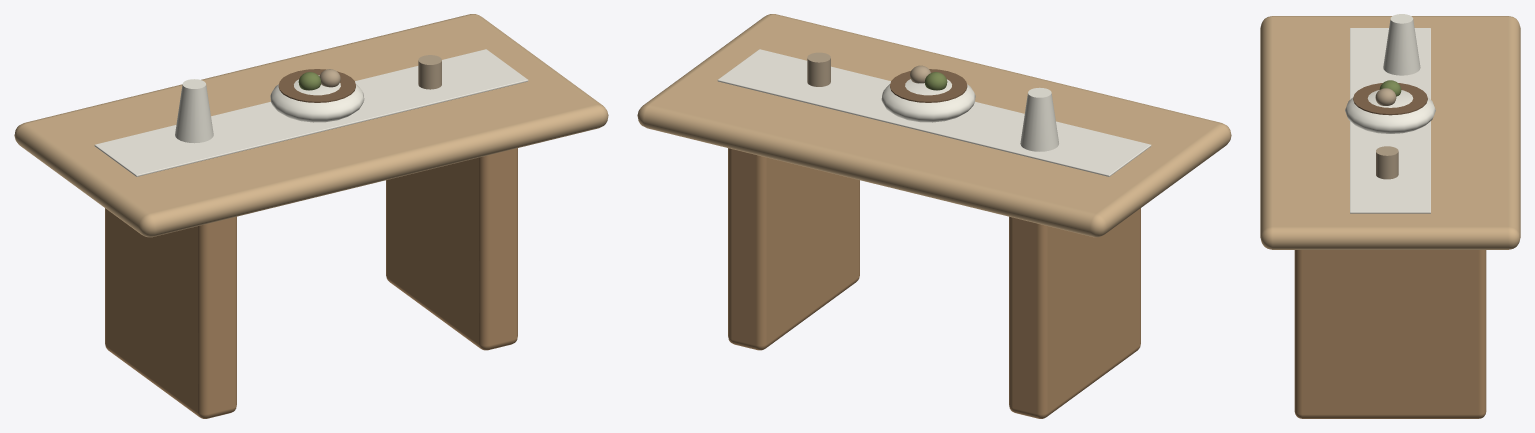
The model's file is diningTable.glb.
The picture shows the model from 3 angles, left to right: view 1: azimuth 30°, elevation 25°; view 2: azimuth 150°, elevation 25°; view 3: azimuth 270°, elevation 25°; orthographic projection. The views are drawn at different scales.
Visible parts, largest first — view 1: studio/oakLight, studio/oak, studio/cream, studio/ceramic, studio/oakDark, studio/sand; view 2: studio/oakLight, studio/oak, studio/cream, studio/ceramic, studio/oakDark, studio/sand; view 3: studio/oakLight, studio/oak, studio/cream, studio/ceramic, studio/oakDark, studio/sand.
Boxes of the visible parts, x1,y1,x2,y2 form: studio/oakLight: (14, 14, 608, 237); studio/oak: (105, 148, 517, 418); studio/cream: (94, 49, 528, 176); studio/ceramic: (175, 75, 364, 143); studio/oakDark: (278, 69, 355, 102); studio/sand: (319, 55, 441, 89); studio/oakLight: (637, 14, 1231, 237); studio/oak: (728, 148, 1140, 418); studio/cream: (717, 49, 1151, 176); studio/ceramic: (881, 79, 1058, 151); studio/oakDark: (890, 69, 967, 102); studio/sand: (807, 52, 930, 86); studio/oakLight: (1260, 16, 1520, 249); studio/oak: (1294, 250, 1486, 418); studio/cream: (1350, 28, 1430, 213); studio/ceramic: (1345, 14, 1435, 133); studio/oakDark: (1353, 83, 1427, 115); studio/sand: (1375, 88, 1398, 179).
Size of the model in its own units: 1.6 by 0.935 by 0.8.
